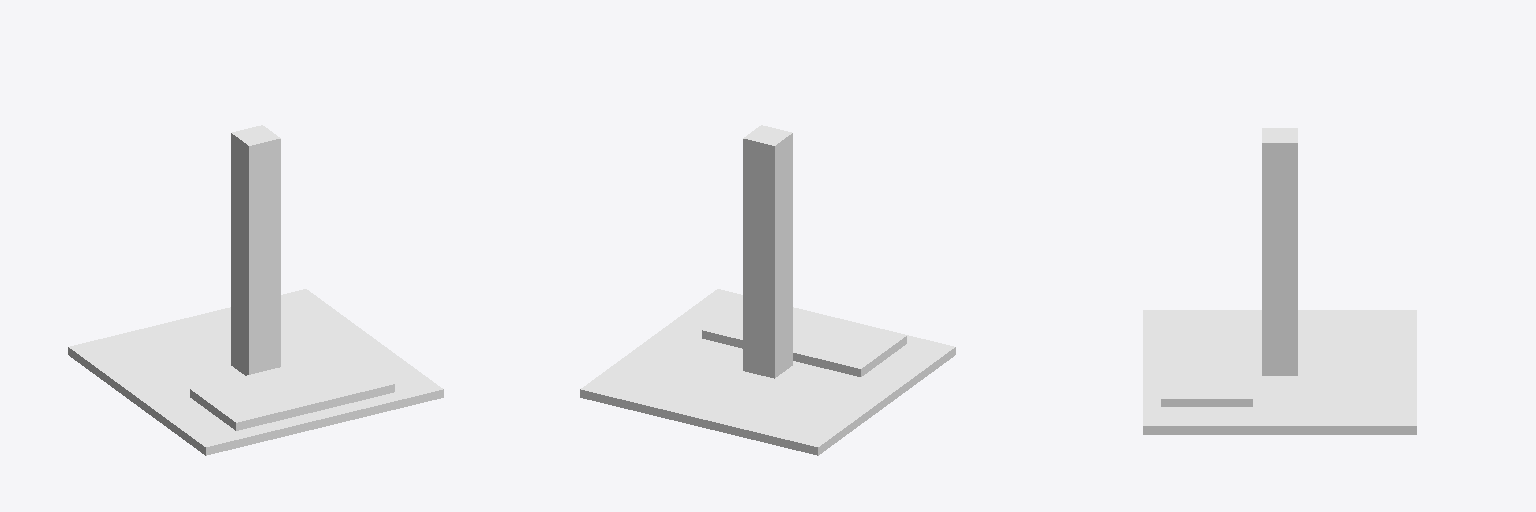
Rendered from PanneauSolaire-1-Socle.obj.
3 views of the same model, side by side, from view 1: azimuth 30°, elevation 25°; view 2: azimuth 150°, elevation 25°; view 3: azimuth 270°, elevation 25° (orthographic).
Parts seen in each view (by area): view 1: Socle; view 2: Socle; view 3: Socle.
Part boxes in pixels (bbox=[...]): Socle: bbox=[68, 125, 443, 455]; Socle: bbox=[580, 125, 955, 455]; Socle: bbox=[1143, 128, 1416, 434].
Size of the model in its own units: 3 by 2.9 by 3.